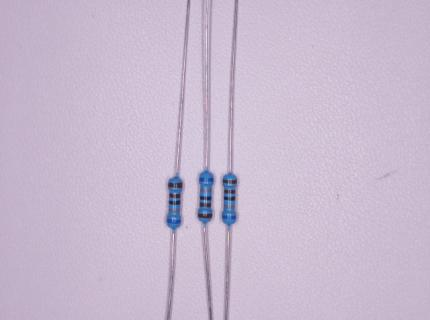Black band: (169, 200, 181, 205), (224, 196, 235, 201), (200, 196, 212, 200)
Blue band: (222, 214, 237, 220), (167, 219, 181, 224), (199, 178, 214, 182)
Brown band: (168, 182, 182, 188), (198, 213, 212, 219), (223, 179, 237, 184), (169, 193, 181, 198), (199, 202, 211, 207), (224, 190, 236, 194)
Grey band: (168, 208, 180, 212), (224, 205, 235, 209), (200, 189, 212, 192)
